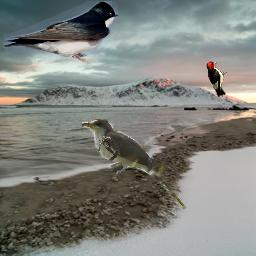Cuckoo: (81, 119, 186, 209)
Swallow: (3, 1, 118, 65)
Woodpecker: (206, 61, 228, 98)
